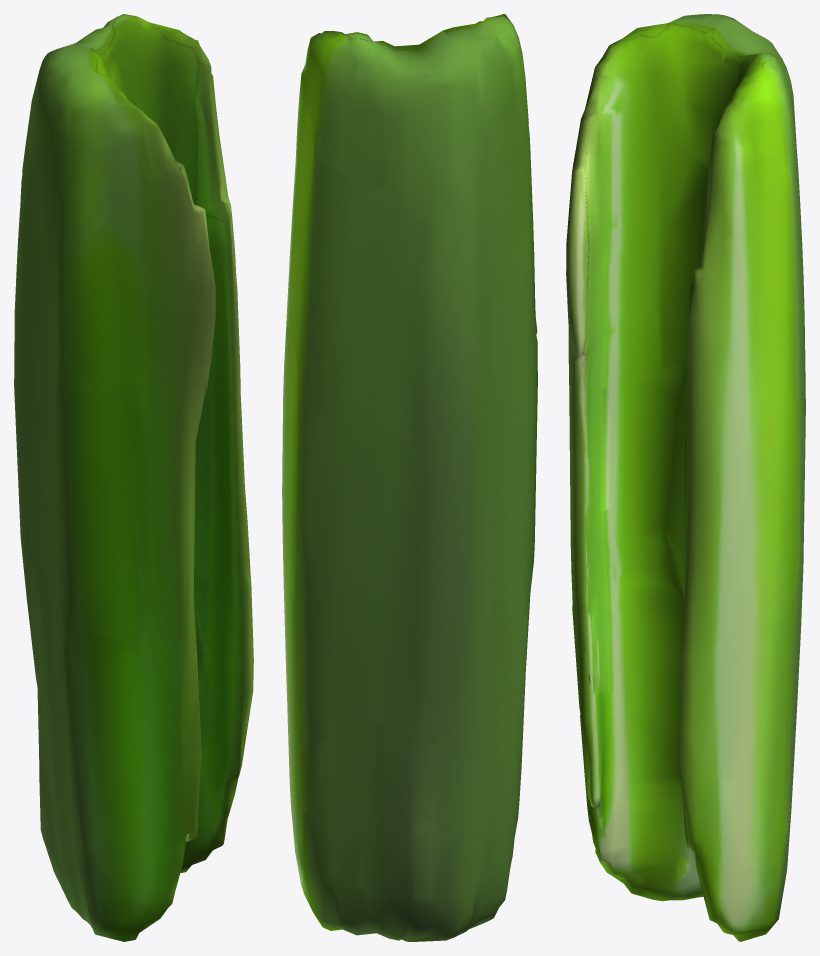
Rendered from veg_pillar.glb.
3 views of the same model, side by side, from view 1: azimuth 30°, elevation 25°; view 2: azimuth 150°, elevation 25°; view 3: azimuth 270°, elevation 25° (orthographic). The views are drawn at different scales.
Parts seen in each view (by area): view 1: veg_single; view 2: veg_single; view 3: veg_single.
Part boxes in pixels (x1,y1,x2,y2): veg_single: (14, 14, 253, 941); veg_single: (282, 14, 537, 941); veg_single: (566, 14, 805, 941).
Size of the model in its own units: 1.01 by 4.02 by 1.
1 material, 1 textured.
